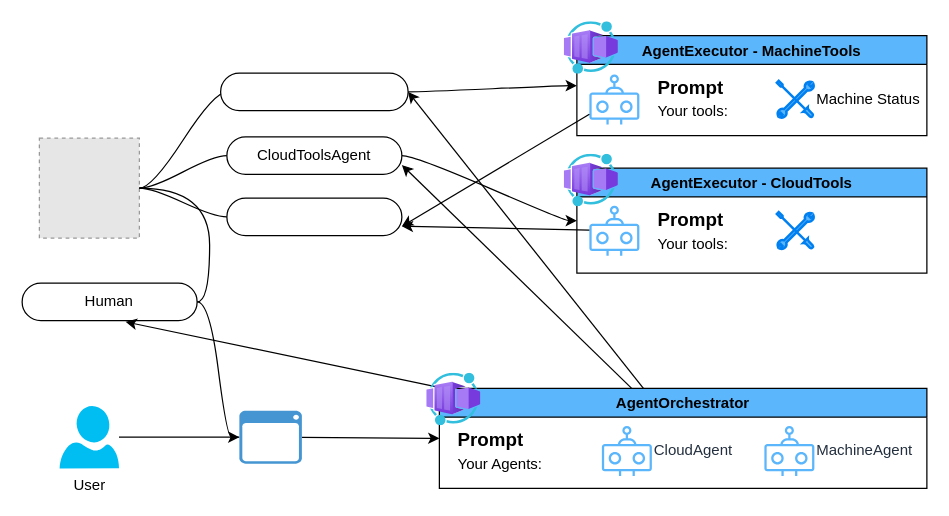
Some shapes in this 949 by 516 pixel diagram are drawn without their labels. Grey dashed boxes stand in for pictures. The shapes that lost their labels are listed below. From the top down, each one's centre as x and y in pixels, then its label:
At [313,91]: "MachineToolsAgent".
At [314,216]: "Orchestrator".
At [795,230]: "Order Status".
At [270,436]: "UI".
